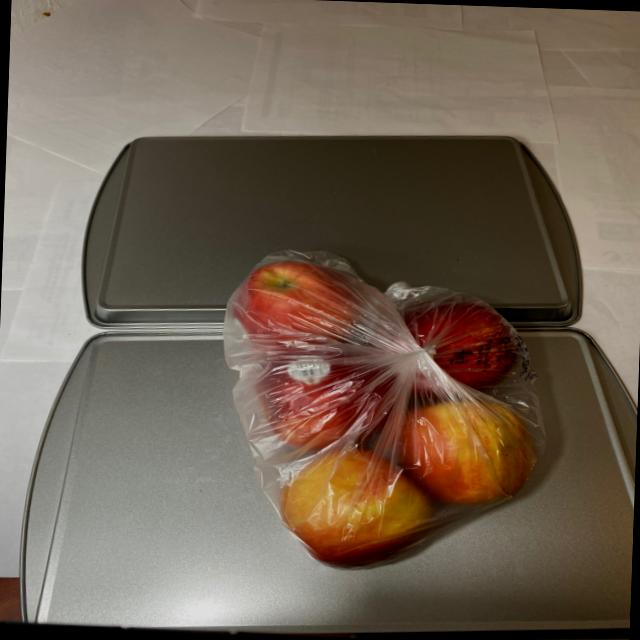apple: (213, 255, 545, 576)
